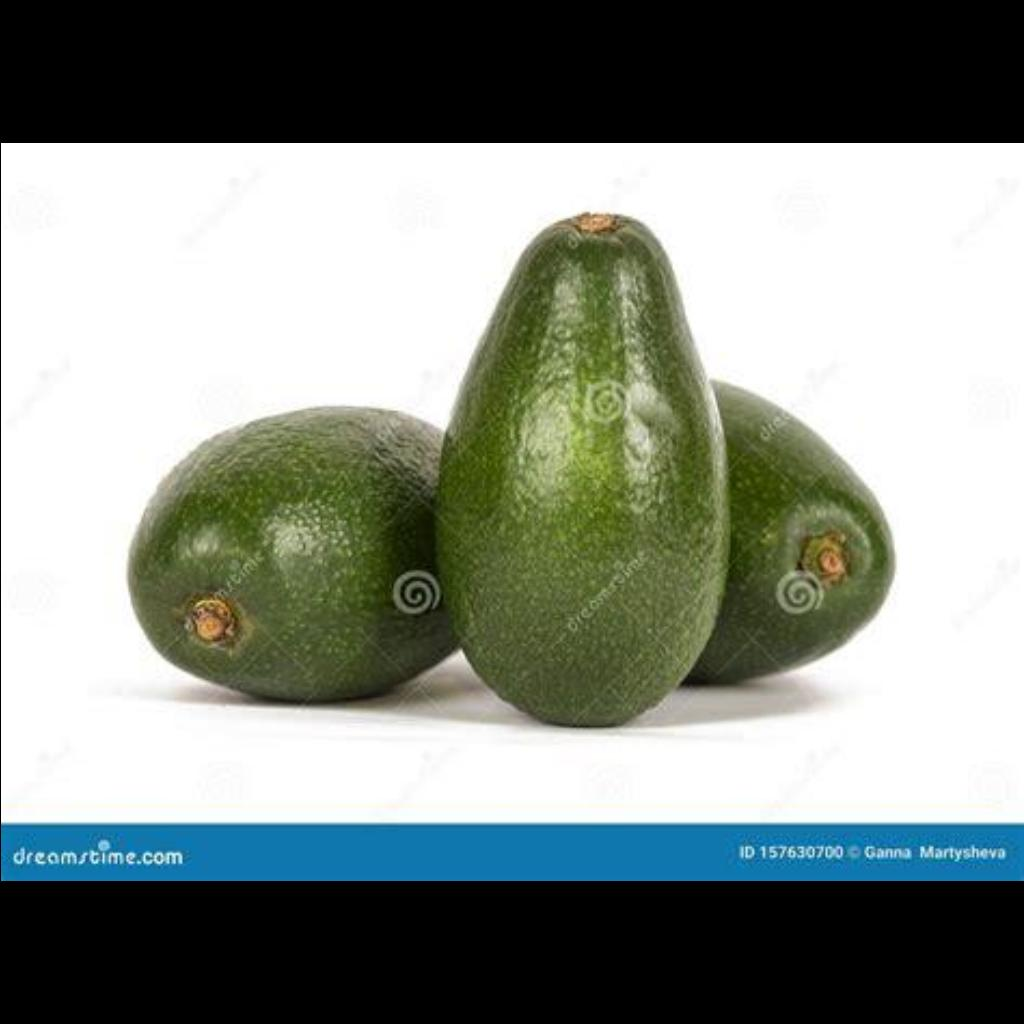fruto_sano: (420, 228, 757, 700), (114, 400, 423, 677), (712, 376, 898, 663)
